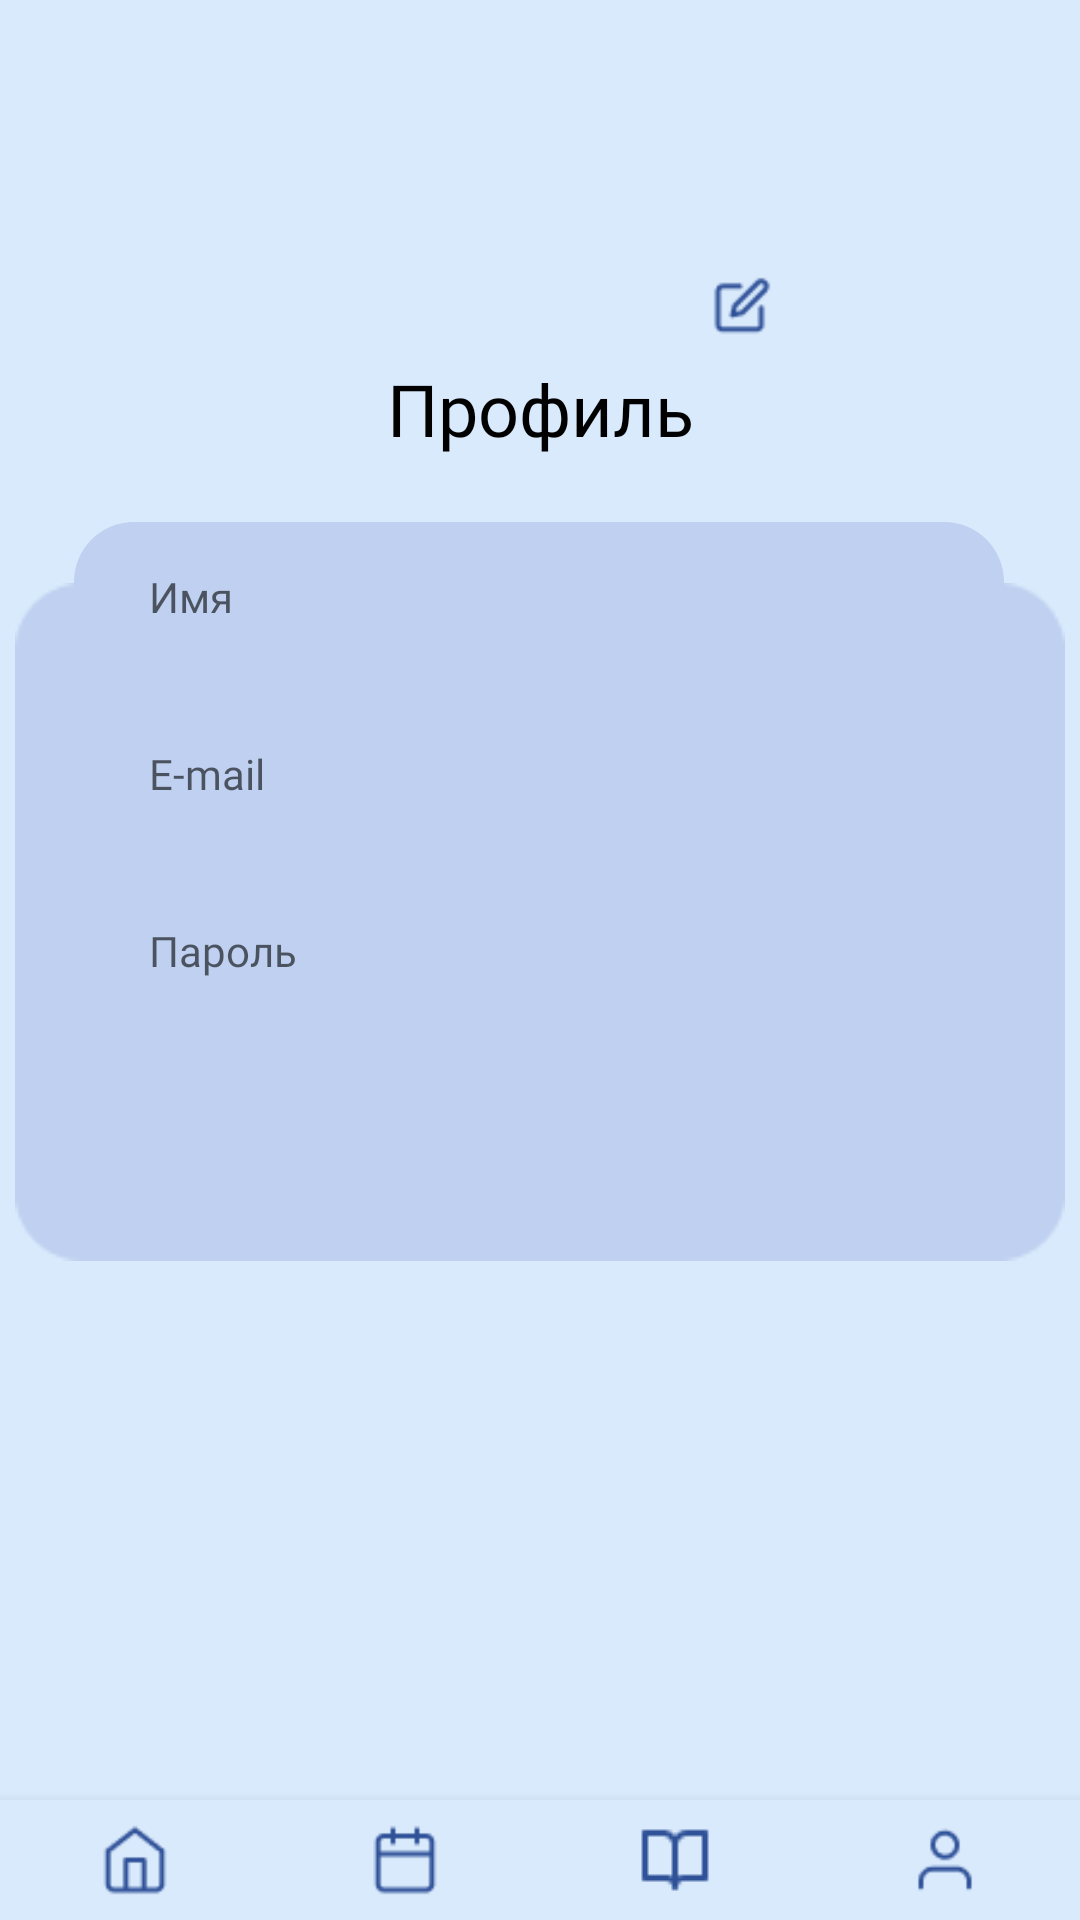

Named icons in this screenshot (1080px×1920px) and their centers, (x=x, y=y):
edit: (x=742, y=305)
